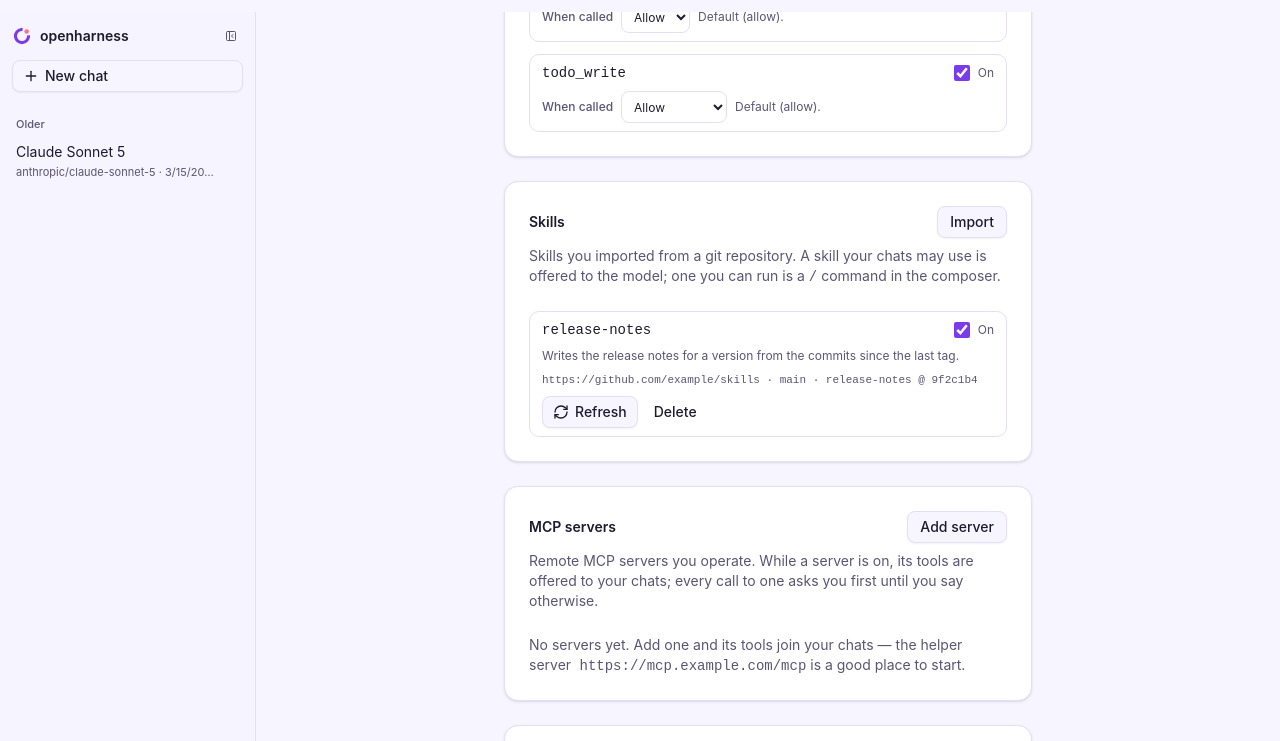
Test case: Settings → Skills: the refresh (#349, K5; #353) › refuses to confirm a snapshot with problems
(page scrolled)
Click the button with aria-label "Refresh release-notes" at (590, 412), box [542,396,638,428]
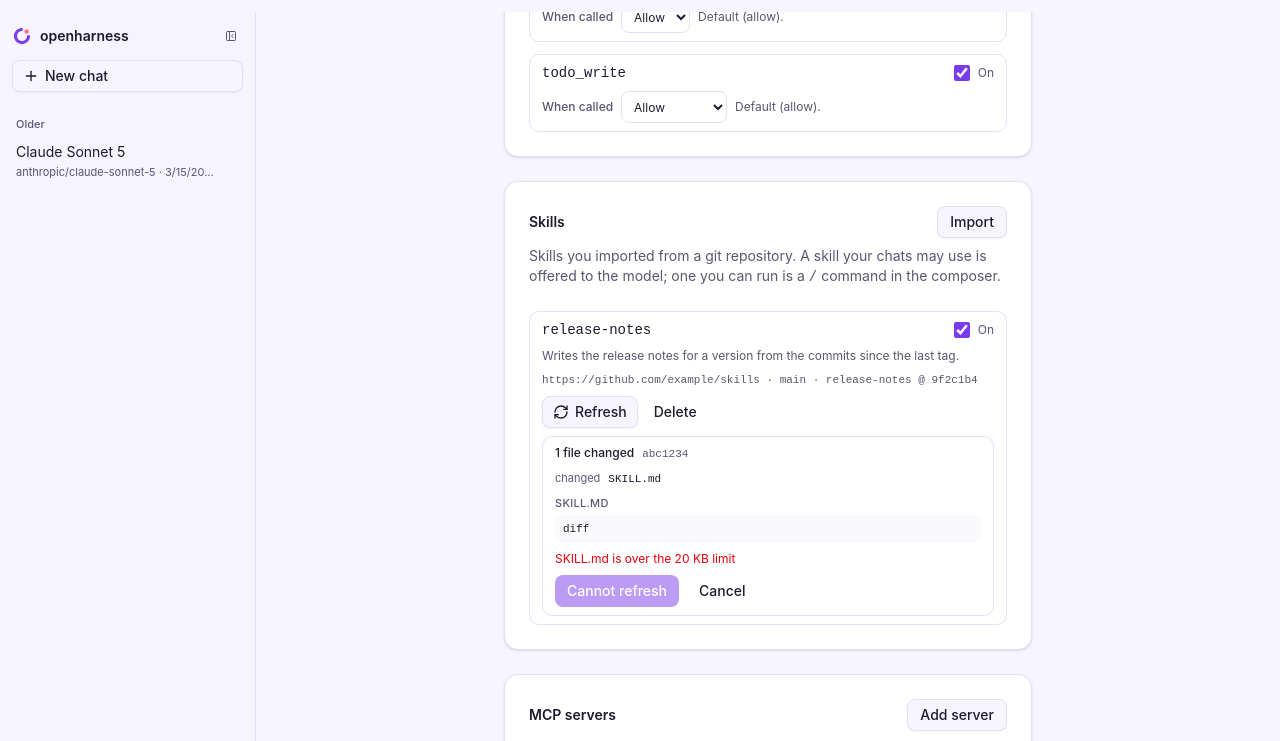
Expected: the text "SKILL.md is over the 20 KB limit" is shown, [555,551,735,566]
Expected: the button "Cannot refresh" is disabled, [555,575,679,607]
